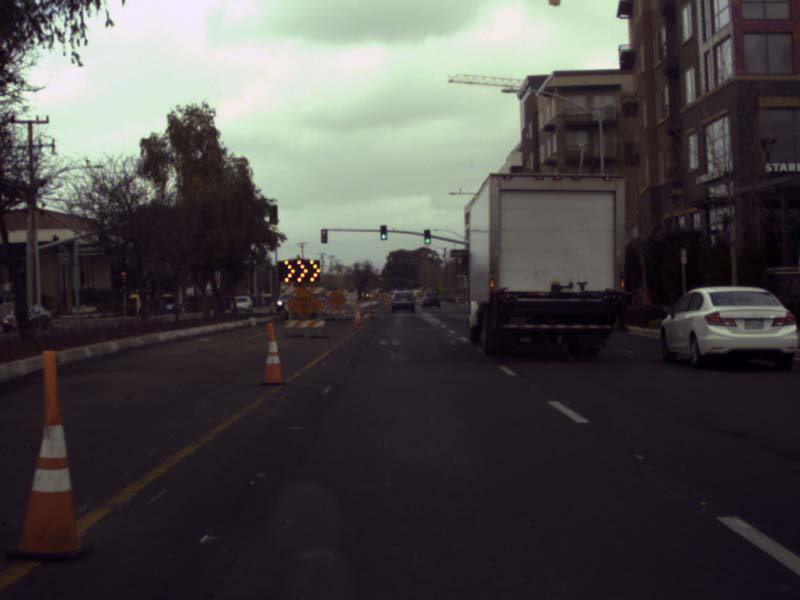Green: (424, 230, 430, 244), (380, 226, 386, 239), (480, 258, 485, 270)
Red: (321, 229, 326, 242)
